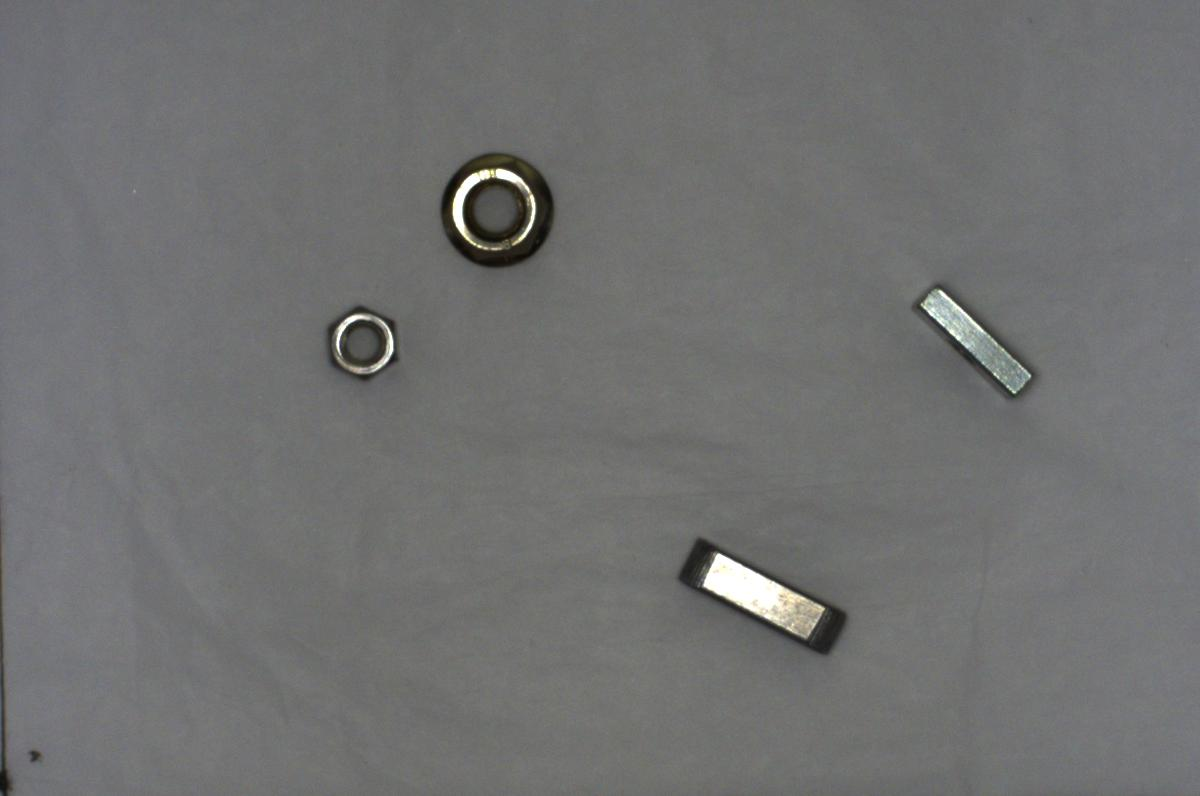Flange nut: (427, 139, 562, 278)
Hexagon nut: (311, 302, 406, 389)
Keybar: (671, 534, 850, 654)
Rectangular nut: (913, 282, 1039, 403)
